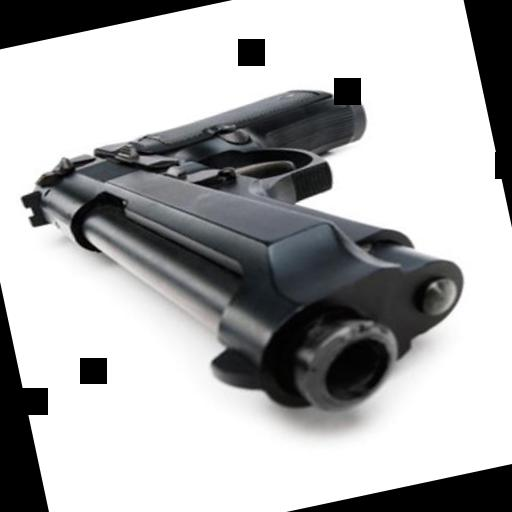Handgun: (0, 54, 500, 466)
